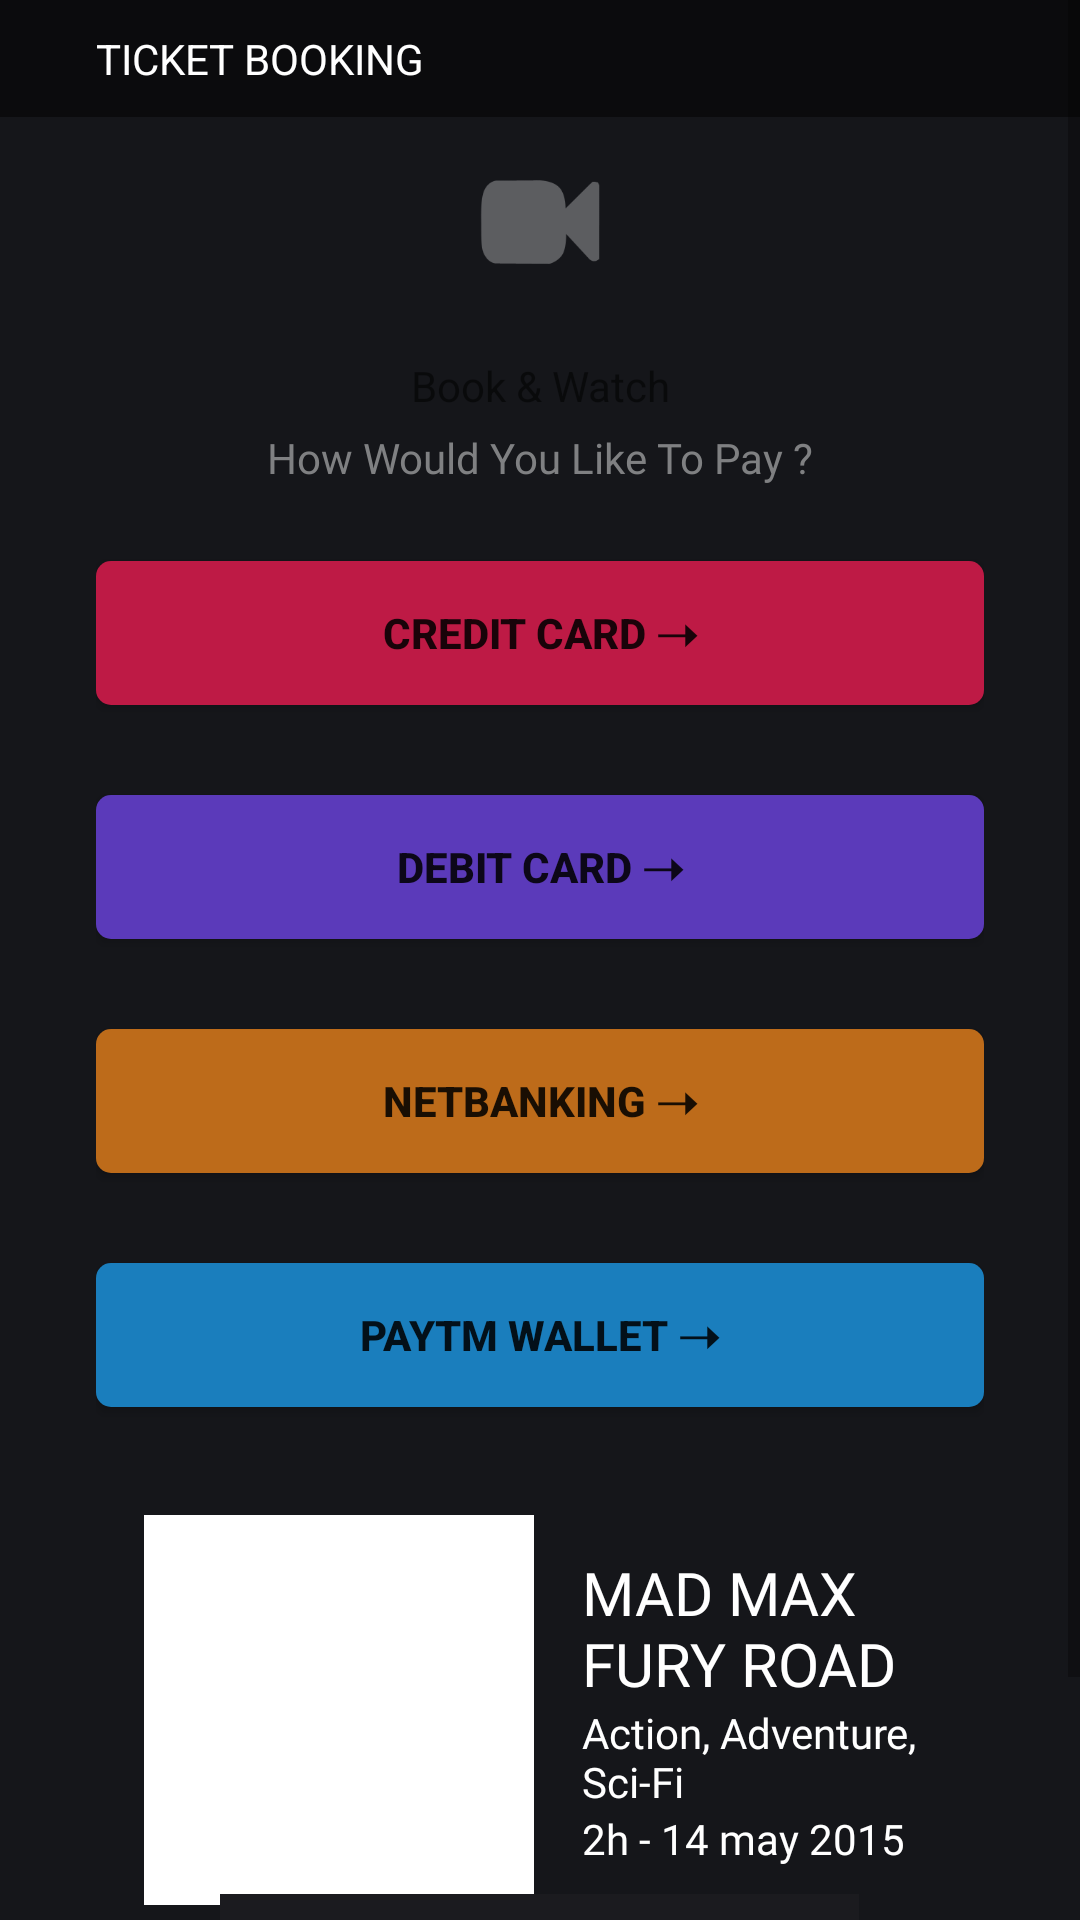

Where icons sit on this 1080×1920 app screen, as (x1, y1, x2, y2):
Movie Icon: (481, 180, 599, 264)
